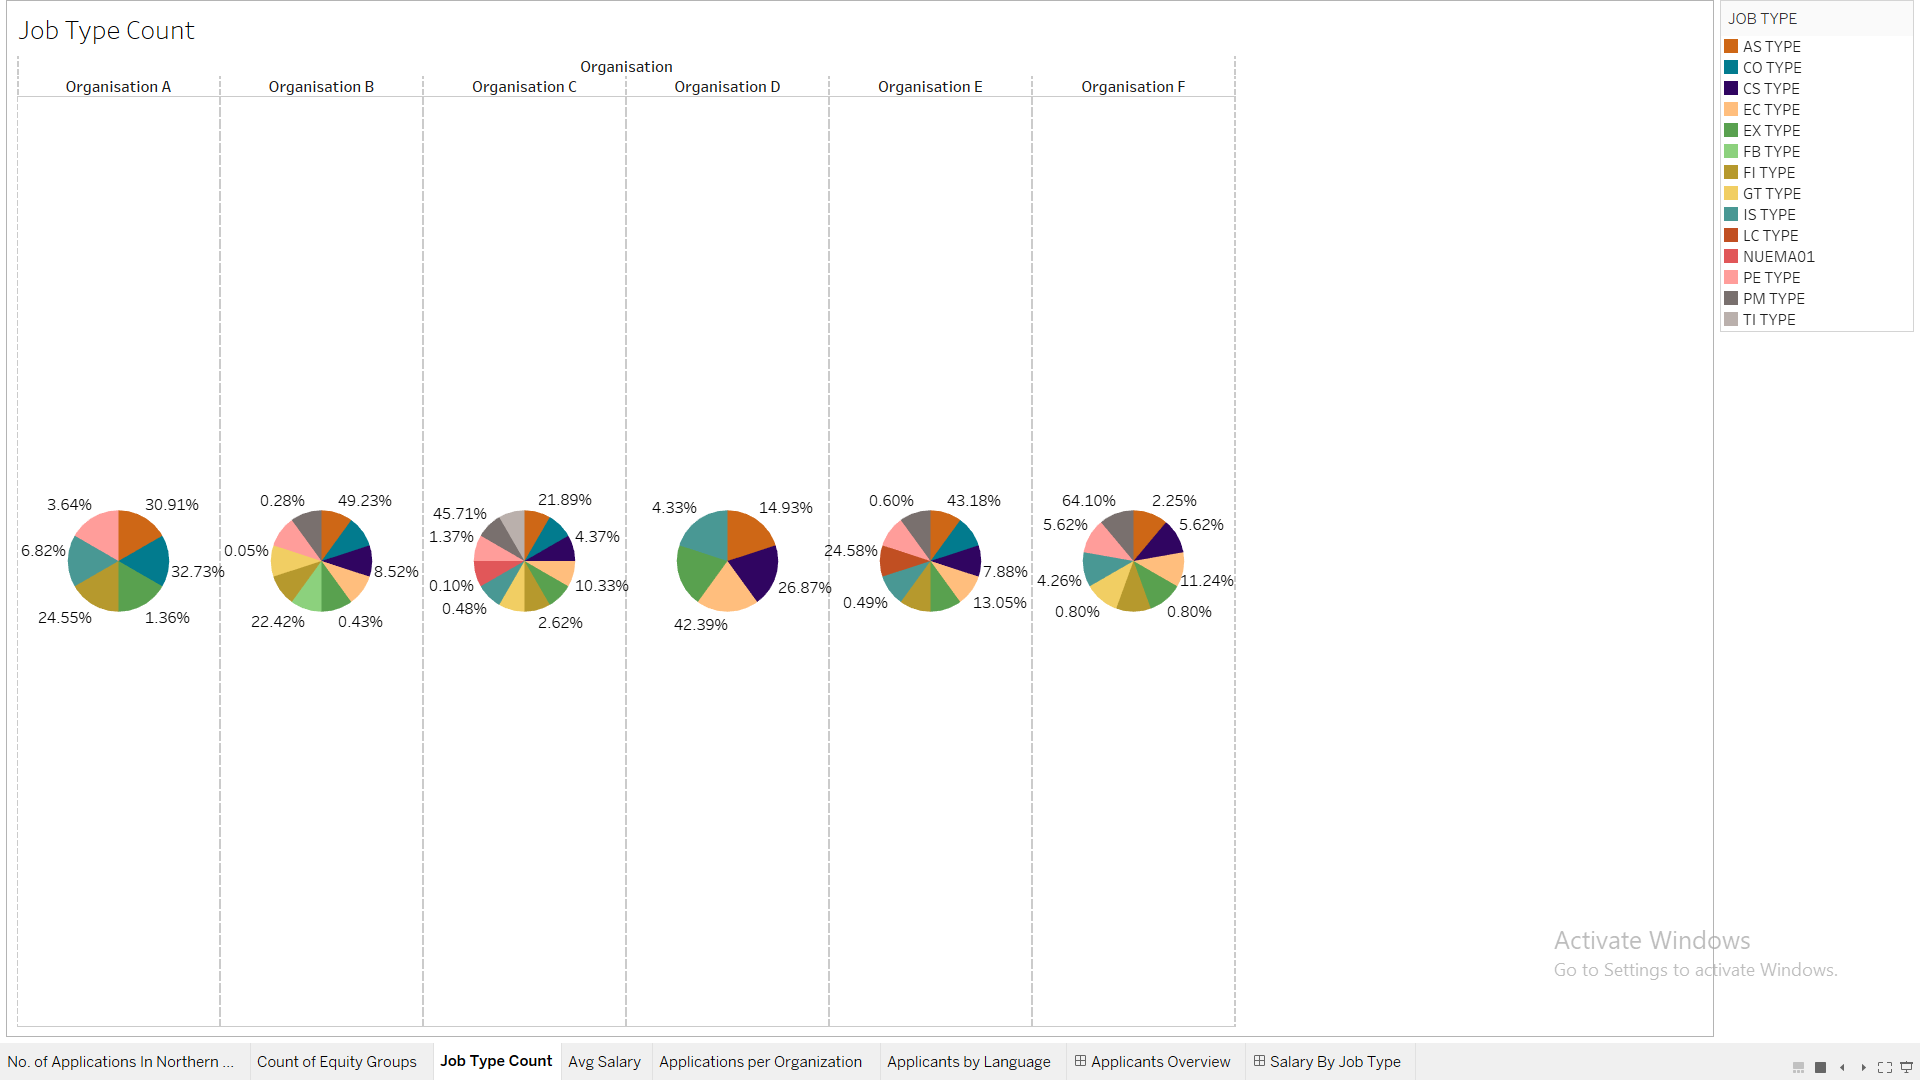

The page's visual inventory and layout, read from the dashboard file:
{"tool":"tableau","page":{"name":"Salary By Job Type","canvas":[1000,1000],"units":"permille","ordinal":1},"visuals":[{"type":"worksheet","title":"Job Type Count","mark":"Pie","cols":["ORGANISATION"],"box":[6.8,11.9,750.7,976.1]},{"type":"worksheet","title":"Avg Salary","mark":"Square","rows":["GROUP","ORGANISATION"],"box":[757.5,11.9,208.5,976.1]},{"type":"legend","title":"Avg Salary","param":"[federated.1nue7rv1p7az7510prcvg0c8aso9].[avg:SALARY:qk]","box":[889,18.6,84.5,43]},{"type":"legend","title":"Job Type Count","param":"[federated.1nue7rv1p7az7510prcvg0c8aso9].[Other]","box":[24.1,763.1,523.2,123.1]}]}

Visuals, with their boxes on the dashboard's canvas, which has no fixed pixel size, in thousandths of its width and height (x1, y1, x2, y2). These are canvas units, not pixel positions in the 1920x1080 screenshot, which may show the page scaled, cropped or inside an application window:
"Job Type Count" worksheet (Pie marks): 7:12:758:988
"Avg Salary" worksheet (Square marks): 758:12:966:988
"Avg Salary" legend: 889:19:974:62
"Job Type Count" legend: 24:763:547:886
